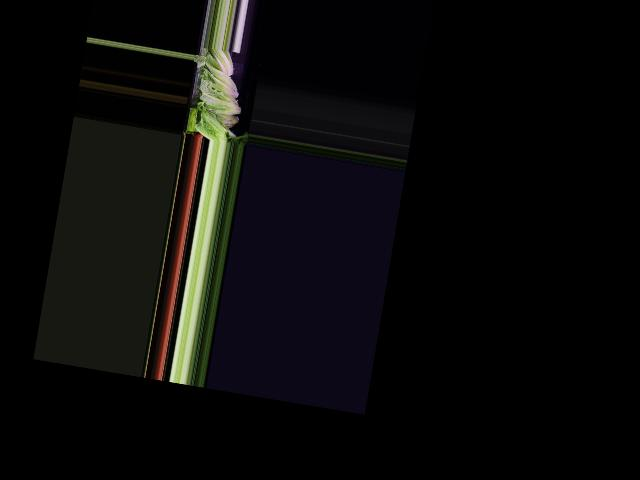lettuce: (204, 47, 237, 78)
